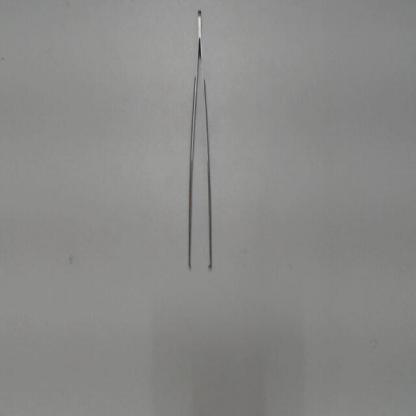Gillies Toothed Dissector: (184, 4, 217, 276)
